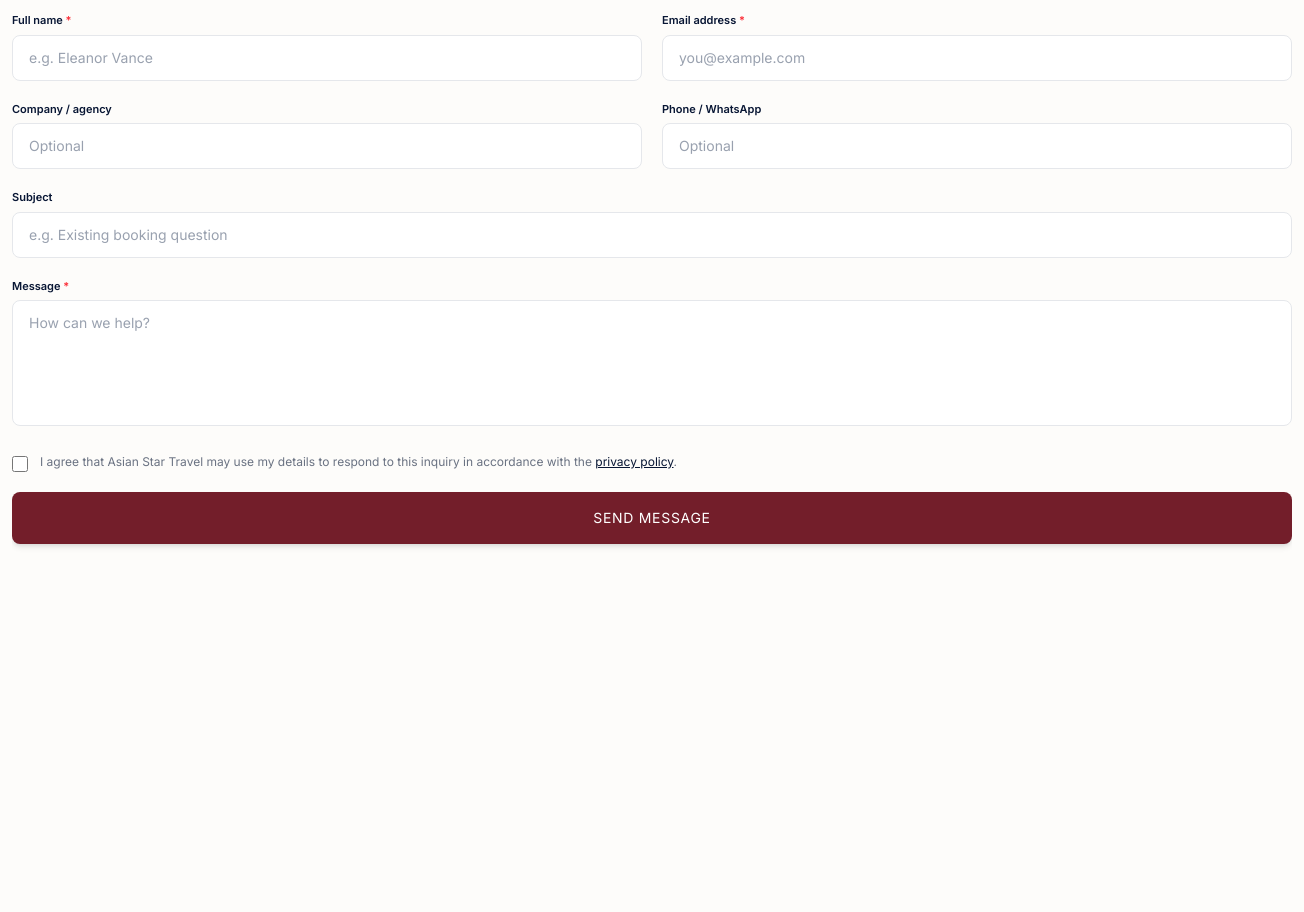
Test case: ContactForm submission lifecycle › surfaces an API error message without a success state
Type "Jane Doe" into the field labelled "Full name *" at (327, 58), box top-left (12, 34), bottom-right (642, 80)
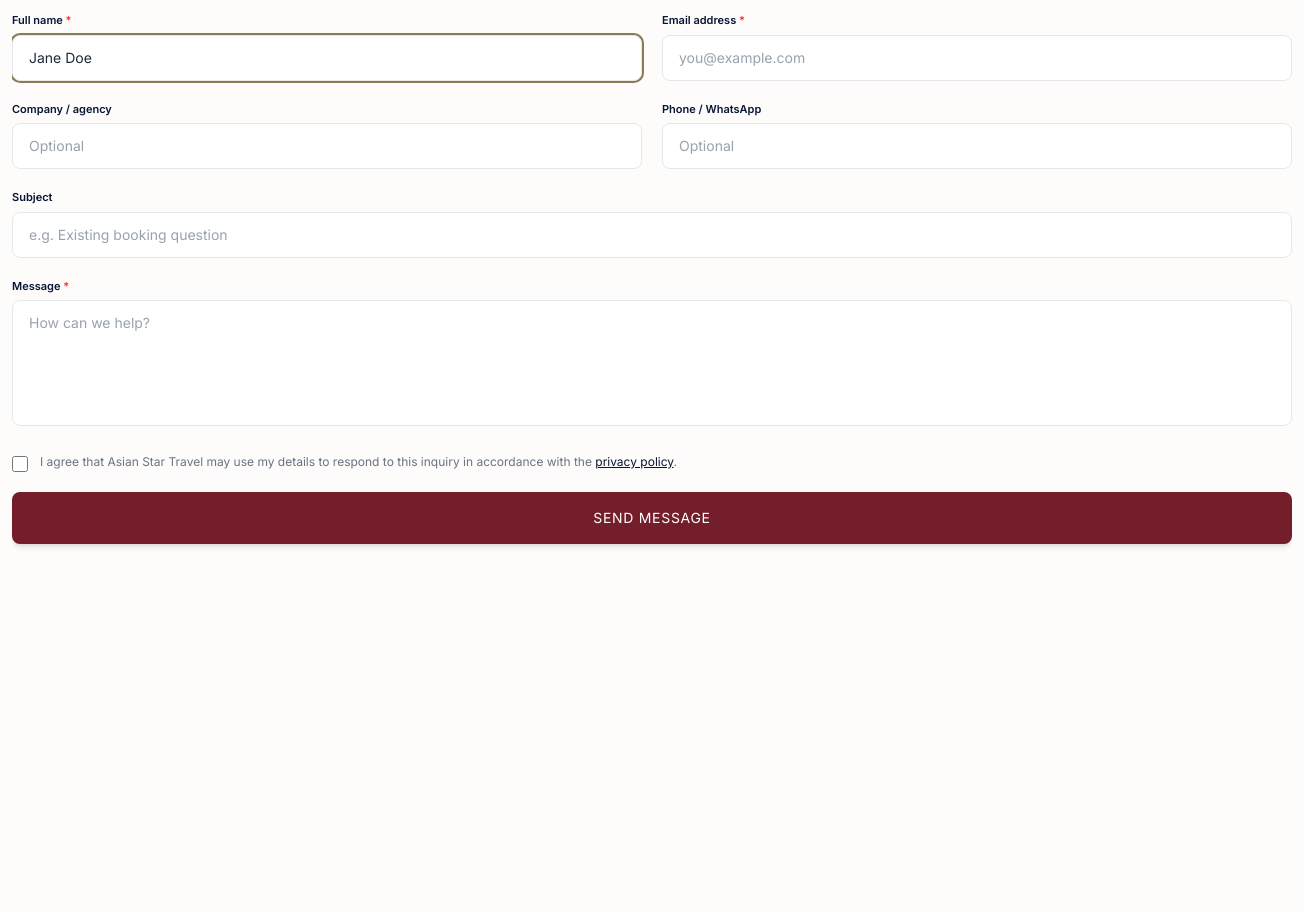
Type "jane@x.com" into the field labelled "Email address *" at (977, 58), box top-left (662, 34), bottom-right (1292, 80)
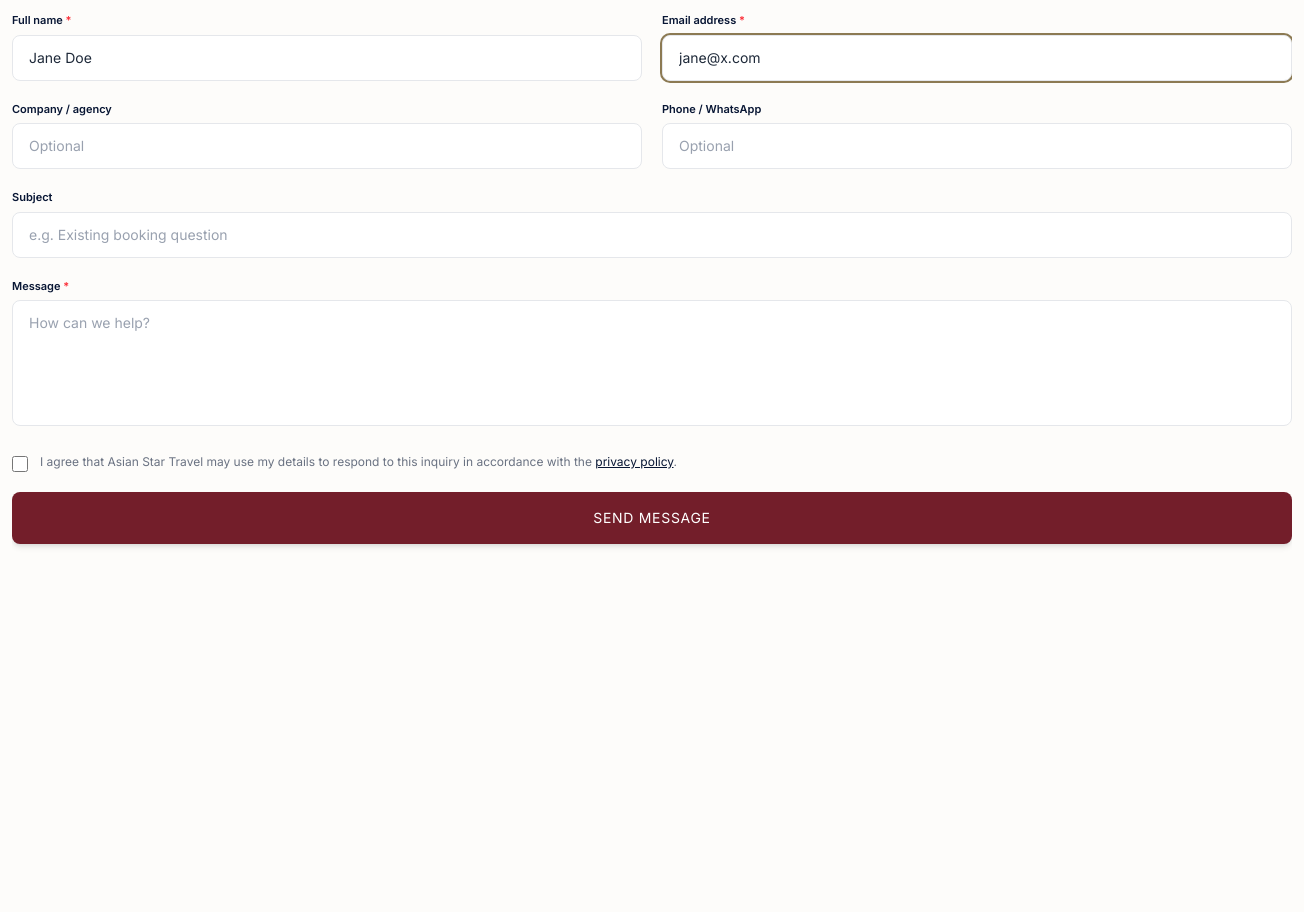
Type "A longer message that passes validation." into the text box labelled "Message *" at (652, 363), box top-left (12, 300), bottom-right (1292, 426)
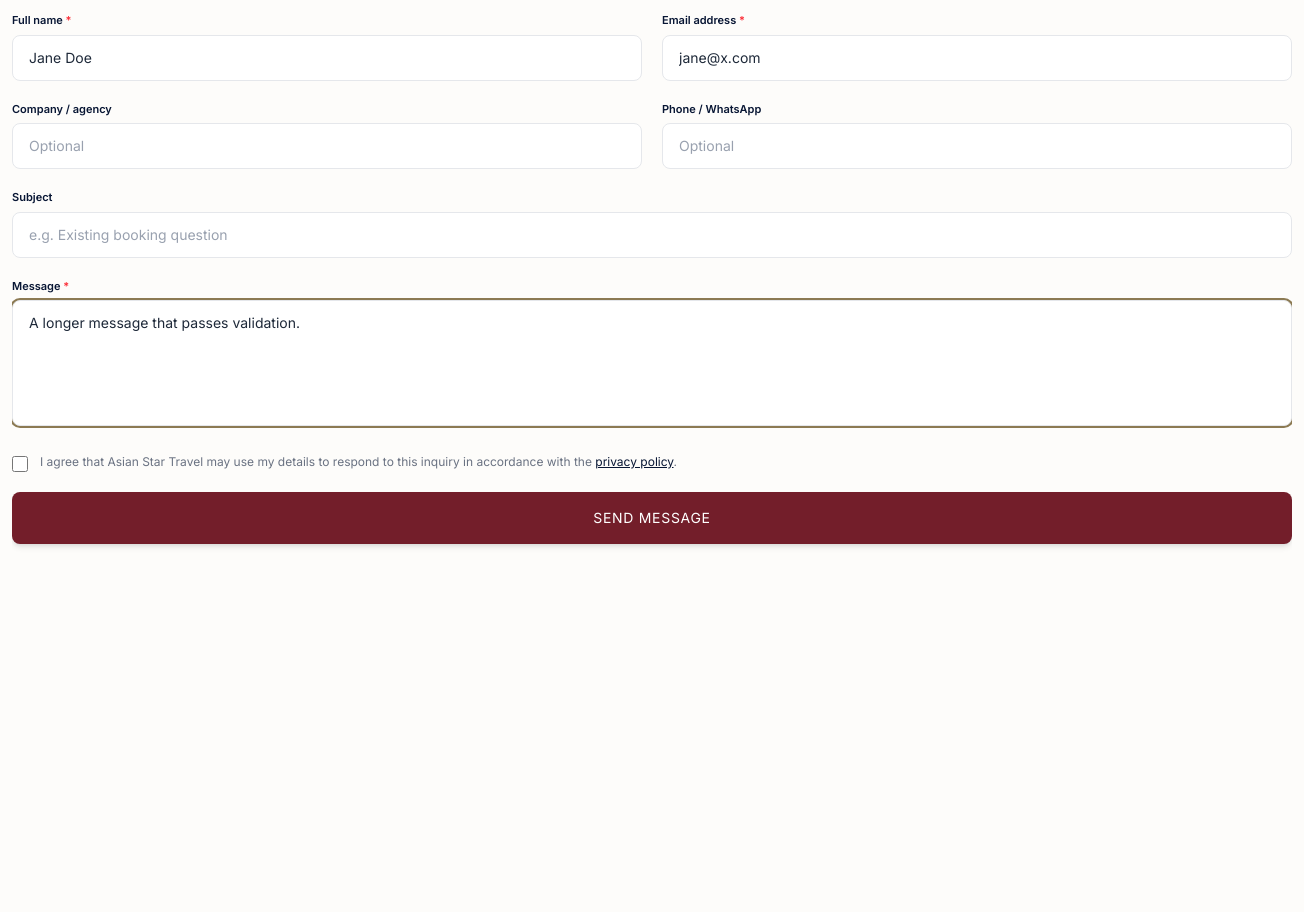
Click the checkbox named "privacy policy" at (20, 464), box top-left (12, 456), bottom-right (28, 472)
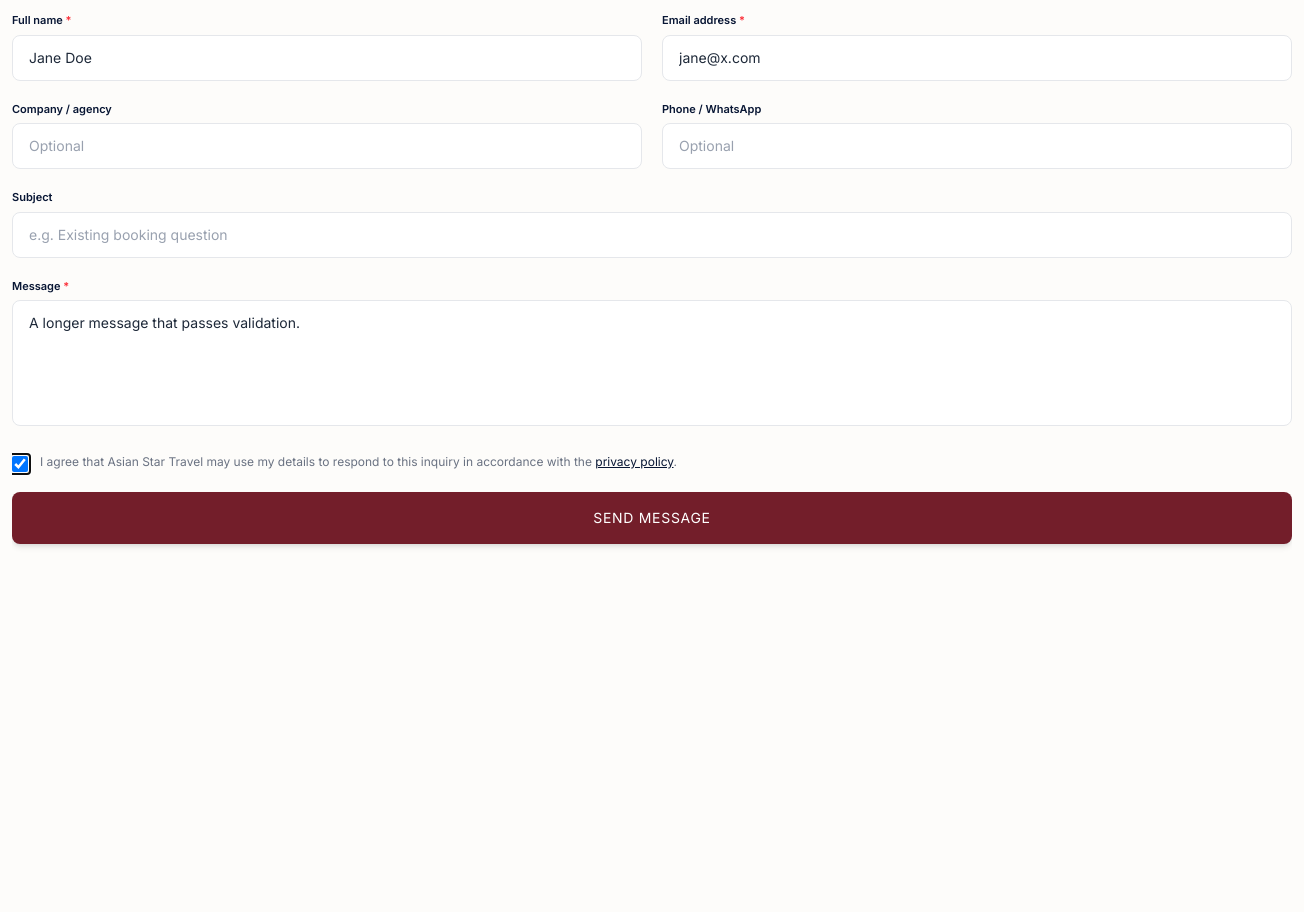
Click the button "Send Message" at (652, 518), box top-left (12, 492), bottom-right (1292, 544)
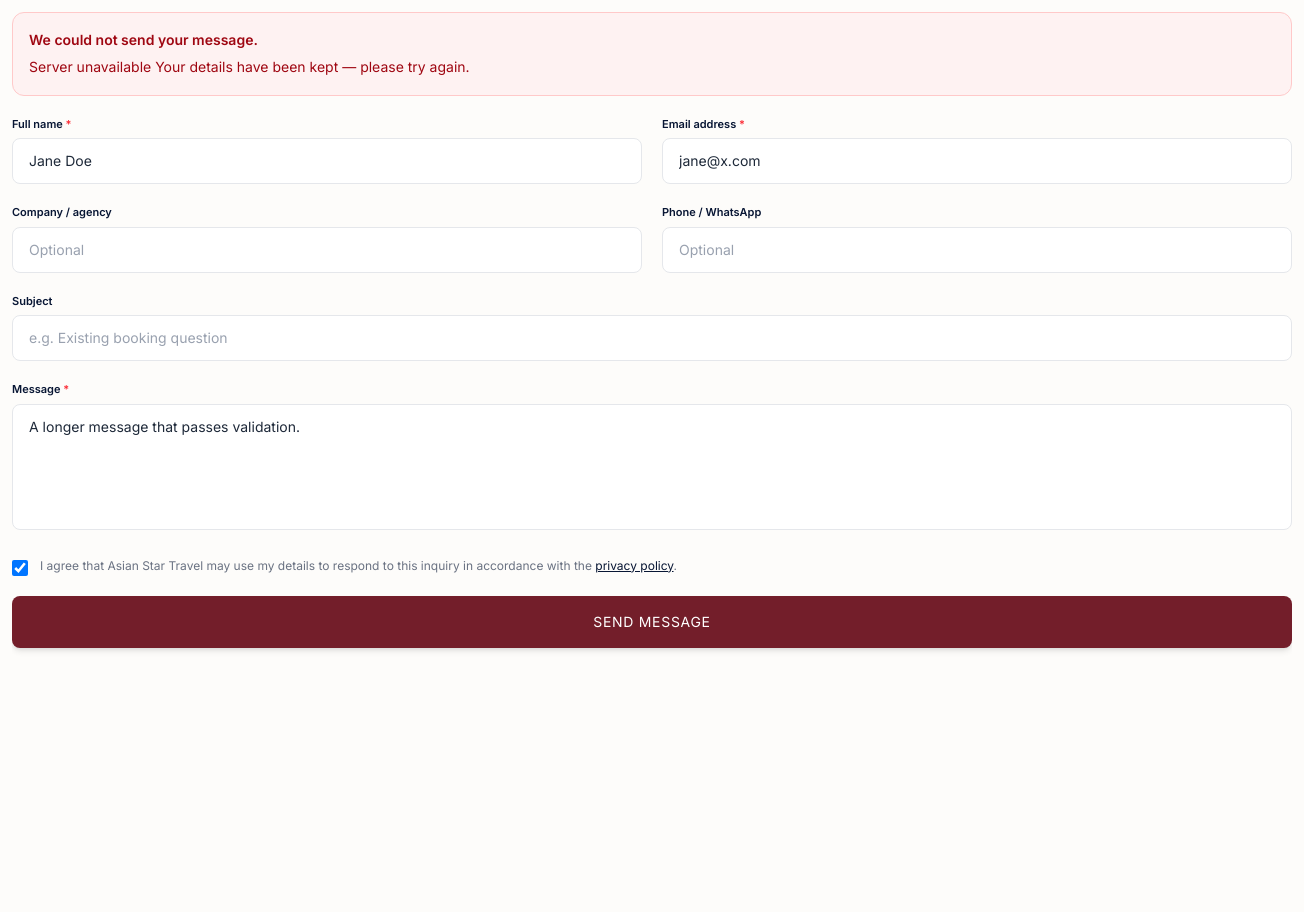
expect the message shows "Server unavailable": met, box top-left (29, 58), bottom-right (151, 75)
